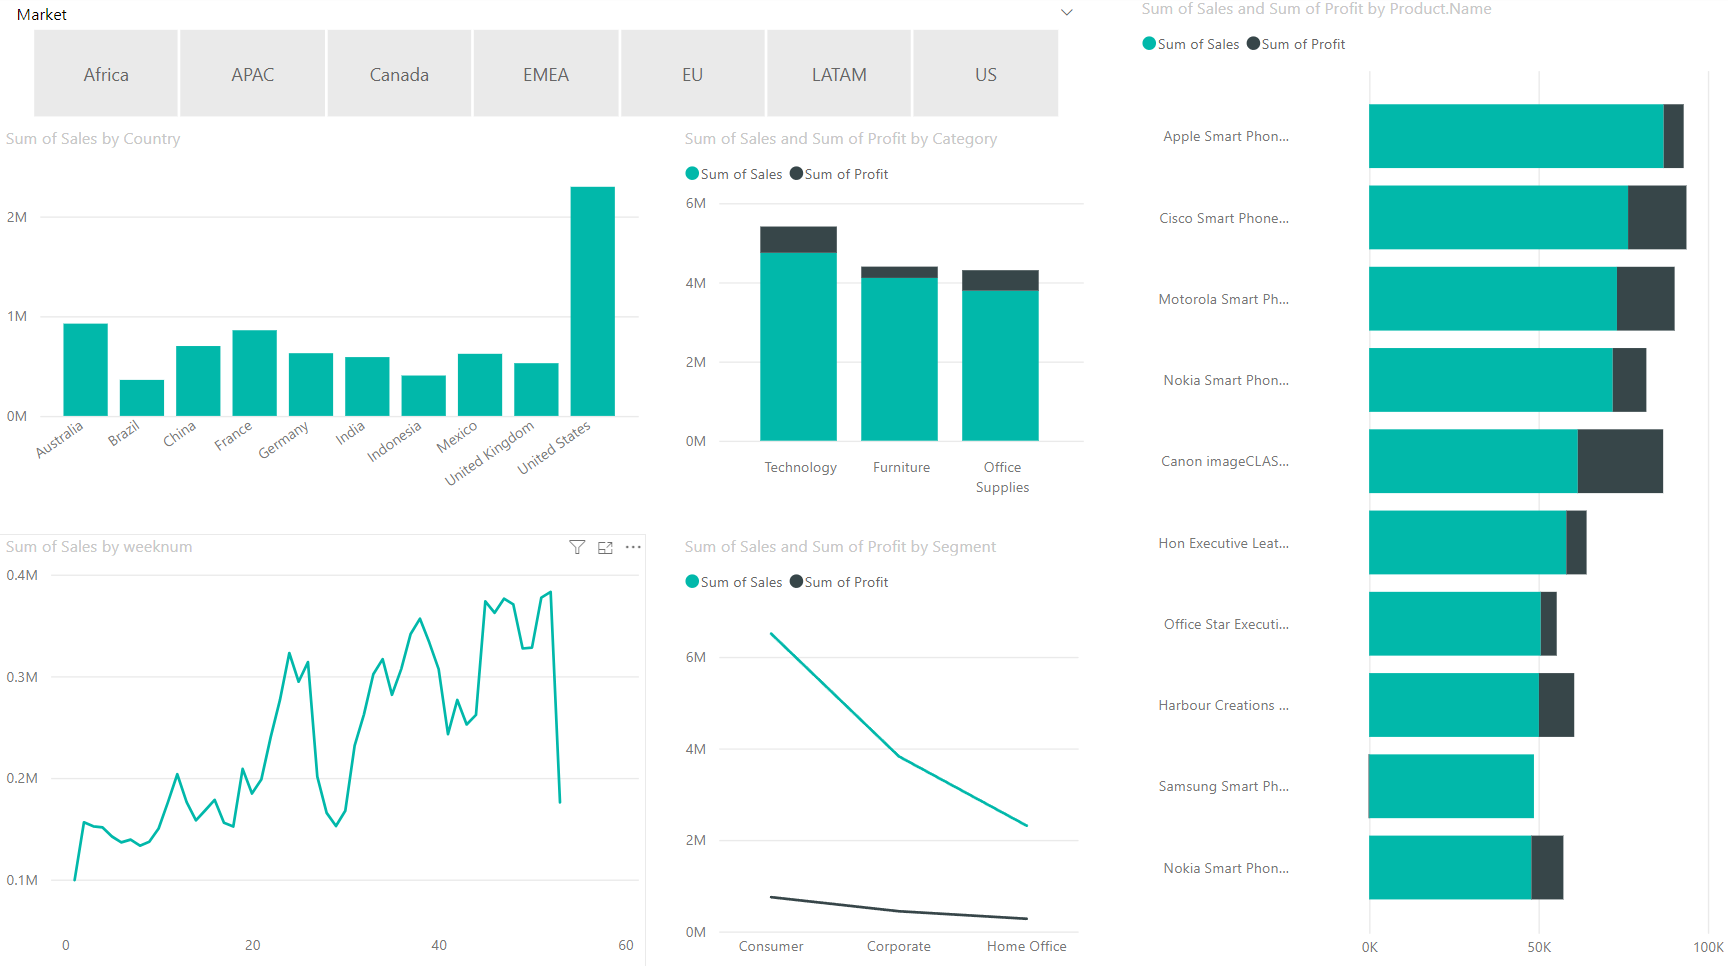

The page's visual inventory and layout, read from the dashboard file:
{"tool":"powerbi","page":{"name":"Product","canvas":[1280,720],"ordinal":1},"visuals":[{"type":"slicer","fields":{"Values":["superstore.Market"]},"box":[0,0,806.9,96.1],"z":0},{"type":"clusteredColumnChart","fields":{"Y":["Sum(superstore.Sales)"],"Category":["superstore.Country Hierarchy.Country","superstore.Country Hierarchy.City"]},"box":[0,96.1,477.5,281.3],"z":1000},{"type":"lineChart","fields":{"Category":["superstore.Segment"],"Y":["Sum(superstore.Sales)","Sum(superstore.Profit)"]},"box":[502.2,397.9,304.6,322.5],"z":1002},{"type":"columnChart","fields":{"Category":["superstore.Category"],"Y":["Sum(superstore.Sales)","Sum(superstore.Profit)"]},"box":[502.2,96.1,304.6,281.3],"z":1003},{"type":"barChart","fields":{"Category":["superstore.Product.Name"],"Y":["Sum(superstore.Sales)","Sum(superstore.Profit)"]},"box":[839.8,0,440.5,720.4],"z":1004},{"type":"lineChart","fields":{"Category":["superstore.weeknum"],"Y":["Sum(superstore.Sales)"]},"box":[0,398,478,322],"z":1005}]}

Visuals, with their boxes in screenshot pixels (x1, y1, x2, y2), scaled from the page's 1280x720 canvas onto the 1728x966 screenshot:
slicer - superstore.Market: bbox=(0, 0, 1089, 129)
clusteredColumnChart - Sum(superstore.Sales) x superstore.Country Hierarchy.Country: bbox=(0, 129, 645, 506)
lineChart - superstore.Segment x Sum(superstore.Sales): bbox=(678, 534, 1089, 965)
columnChart - superstore.Category x Sum(superstore.Sales): bbox=(678, 129, 1089, 506)
barChart - superstore.Product.Name x Sum(superstore.Sales): bbox=(1134, 0, 1727, 965)
lineChart - superstore.weeknum x Sum(superstore.Sales): bbox=(0, 534, 645, 965)
